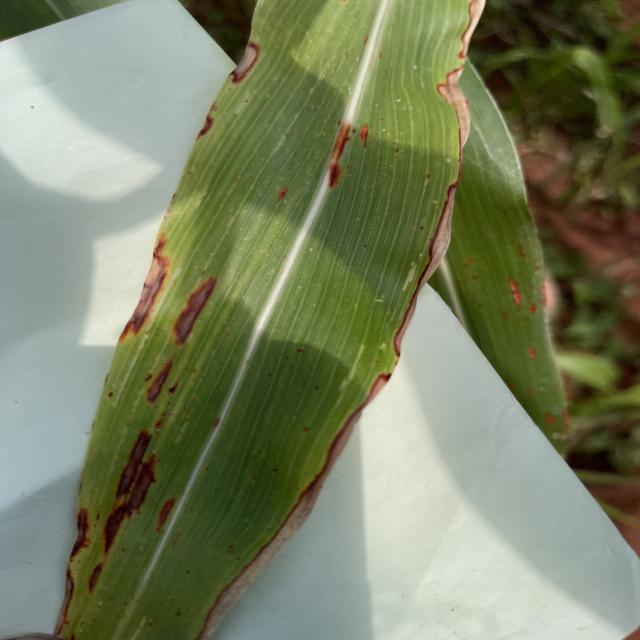millet_rust: (62, 0, 480, 640), (428, 60, 622, 454)
